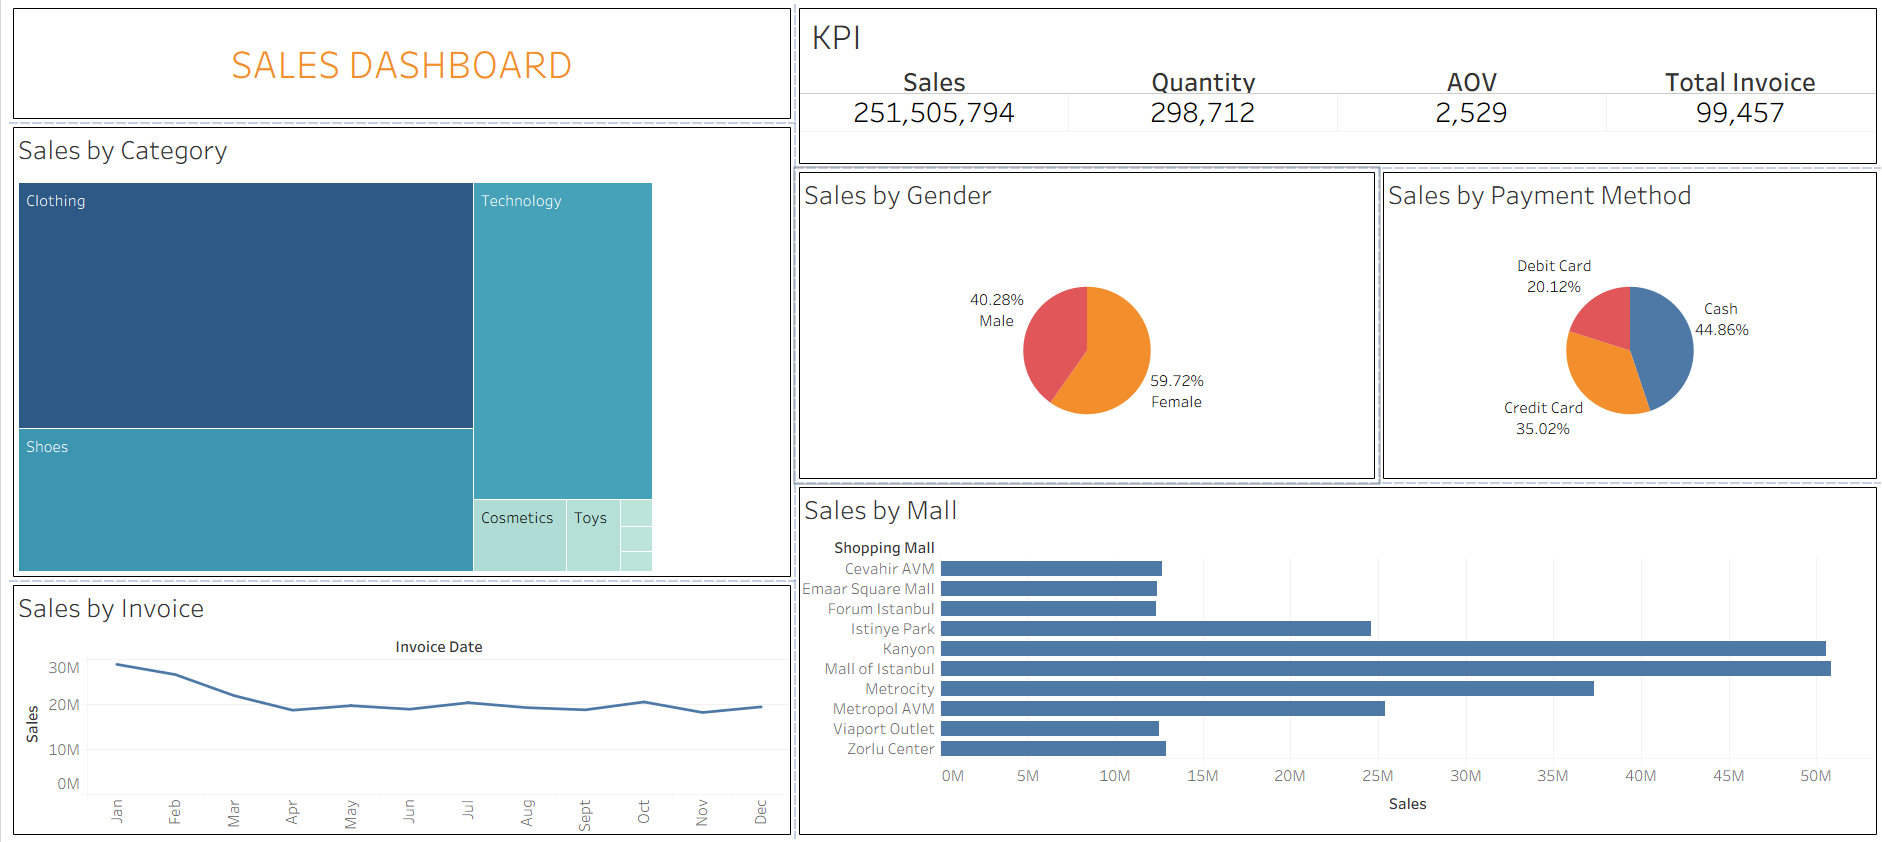

The dashboard page shown, as its layout file describes it:
{"tool":"tableau","page":{"name":"Dashboard 1","canvas":[1000,1000],"units":"permille","ordinal":0},"visuals":[{"type":"text","box":[4.2,9.4,416.3,139.8]},{"type":"worksheet","title":" KPI","mark":"Automatic","box":[420.6,9.4,575.2,192.7]},{"type":"worksheet","title":"Sales by Category","mark":"Automatic","box":[4.2,149.2,416.3,538.2]},{"type":"worksheet","title":"Sales by Gender","mark":"Pie","box":[420.6,202.1,309.3,410.1]},{"type":"worksheet","title":"Sales by Payment Method","mark":"Pie","box":[729.9,202.1,265.9,410.1]},{"type":"worksheet","title":"Sales by Mall","mark":"Automatic","rows":["shopping_mall"],"cols":["Calculation_1071756806172672"],"box":[420.6,612.2,575.2,378.4]},{"type":"worksheet","title":"Sales by Invoice ","mark":"Automatic","rows":["Calculation_1071756806172672"],"cols":["invoice_date"],"box":[4.2,687.4,416.3,303.2]}]}

Visuals, with their boxes on the dashboard's canvas, which has no fixed pixel size, in thousandths of its width and height (x1, y1, x2, y2). These are canvas units, not pixel positions in the 1882x842 screenshot, which may show the page scaled, cropped or inside an application window:
text: [x1=4, y1=9, x2=420, y2=149]
" KPI" worksheet: [x1=421, y1=9, x2=996, y2=202]
"Sales by Category" worksheet: [x1=4, y1=149, x2=420, y2=687]
"Sales by Gender" worksheet (Pie marks): [x1=421, y1=202, x2=730, y2=612]
"Sales by Payment Method" worksheet (Pie marks): [x1=730, y1=202, x2=996, y2=612]
"Sales by Mall" worksheet: [x1=421, y1=612, x2=996, y2=991]
"Sales by Invoice " worksheet: [x1=4, y1=687, x2=420, y2=991]
